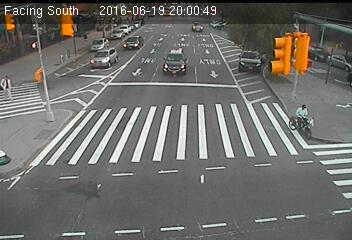neg: (287, 98, 317, 139), (182, 78, 204, 107), (244, 48, 261, 71), (179, 42, 193, 61)
pos: (1, 73, 24, 104), (80, 28, 92, 45)
